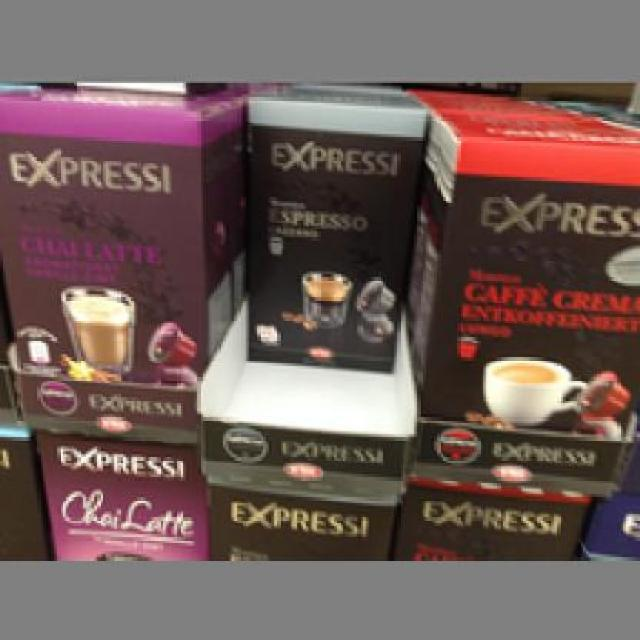Coffee: (408, 111, 638, 440), (0, 86, 240, 386), (240, 82, 426, 368)
